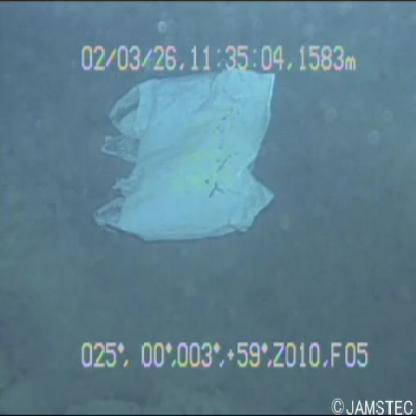Rác: (89, 59, 282, 262)
